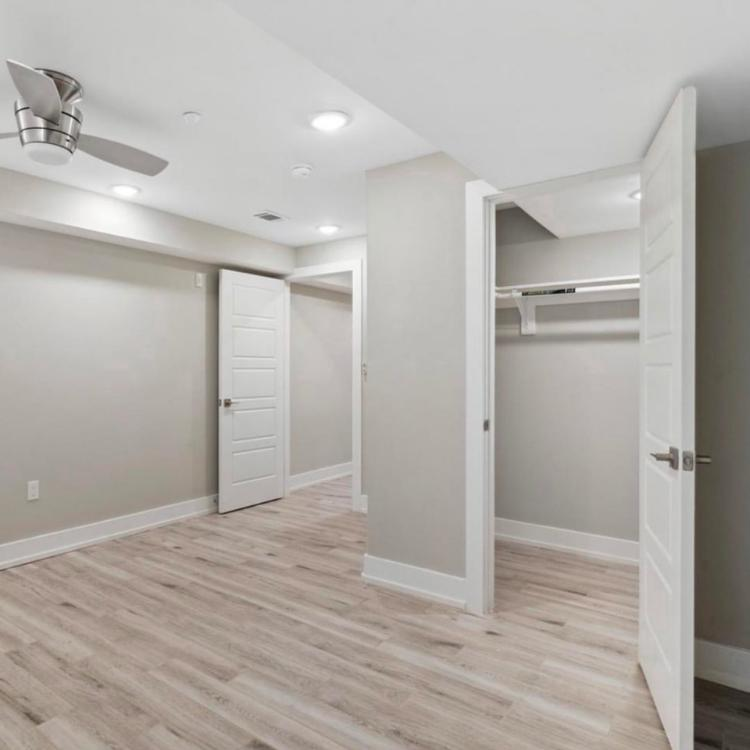OpenDoor: (477, 178, 651, 650), (214, 258, 361, 530)
